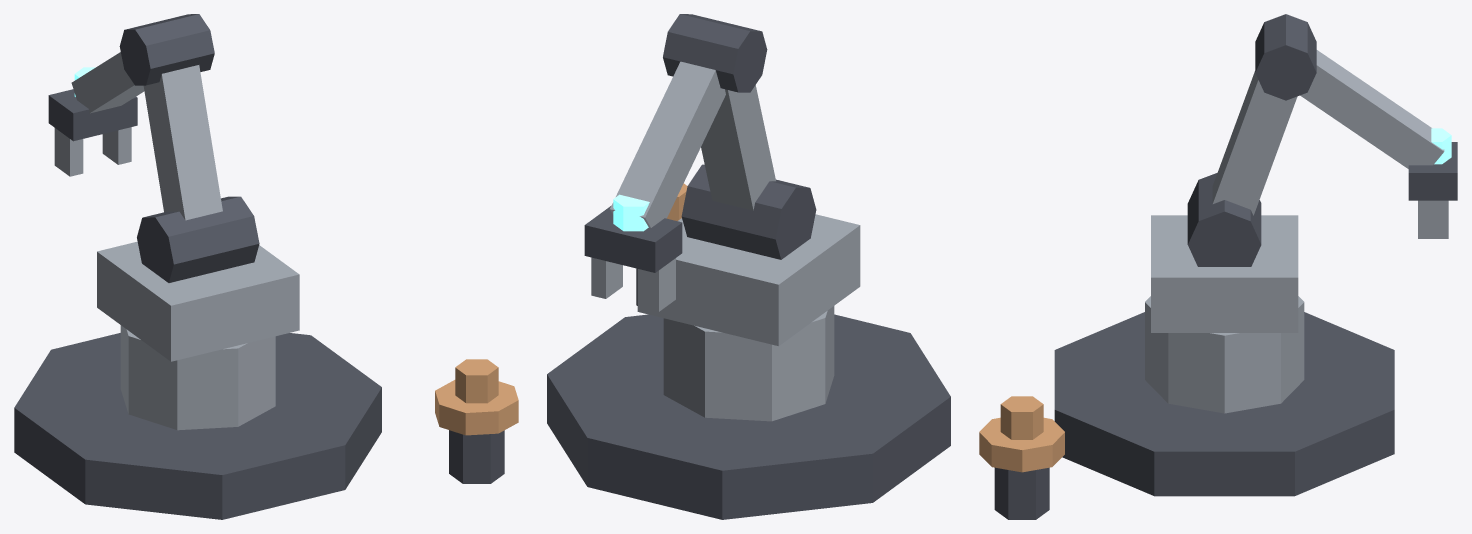
File: braco_rapido_sem_textura.glb
The picture shows the model from 3 angles, left to right: view 1: azimuth 30°, elevation 25°; view 2: azimuth 150°, elevation 25°; view 3: azimuth 270°, elevation 25°; orthographic projection. The views are drawn at different scales.
Visible parts, largest first — view 1: braco_rapido_base, braco_rapido_giro, braco_rapido_braco1, braco_rapido_garra, braco_rapido_braco2; view 2: braco_rapido_base, braco_rapido_giro, braco_rapido_braco1, braco_rapido_braco2, braco_rapido_garra; view 3: braco_rapido_base, braco_rapido_giro, braco_rapido_braco1, braco_rapido_braco2, braco_rapido_garra.
Boxes of the visible parts, left/top/right/bottom form: braco_rapido_base: left=14, top=325, right=518, bottom=519; braco_rapido_giro: left=97, top=196, right=299, bottom=361; braco_rapido_braco1: left=119, top=14, right=222, bottom=220; braco_rapido_garra: left=48, top=67, right=137, bottom=176; braco_rapido_braco2: left=71, top=52, right=144, bottom=113; braco_rapido_base: left=547, top=183, right=950, bottom=519; braco_rapido_giro: left=637, top=164, right=860, bottom=346; braco_rapido_braco1: left=663, top=14, right=775, bottom=210; braco_rapido_braco2: left=610, top=61, right=725, bottom=227; braco_rapido_garra: left=584, top=194, right=682, bottom=311; braco_rapido_base: left=979, top=296, right=1394, bottom=519; braco_rapido_giro: left=1151, top=173, right=1298, bottom=332; braco_rapido_braco1: left=1212, top=14, right=1316, bottom=215; braco_rapido_braco2: left=1300, top=50, right=1444, bottom=168; braco_rapido_garra: left=1408, top=128, right=1457, bottom=238.
Bounding box in the file's own units: 0.6772 × 0.71 × 0.78.
